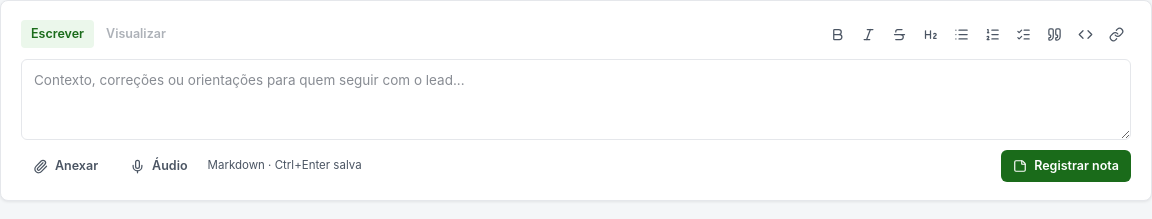
Test case: NoteComposer — toolbar e atalhos › checklist prefixa a linha
Type "ligar amanhã" into the text box named "Corpo da nota".
click(576, 100); type("ligar amanhã")  # box [21,59,1131,140]
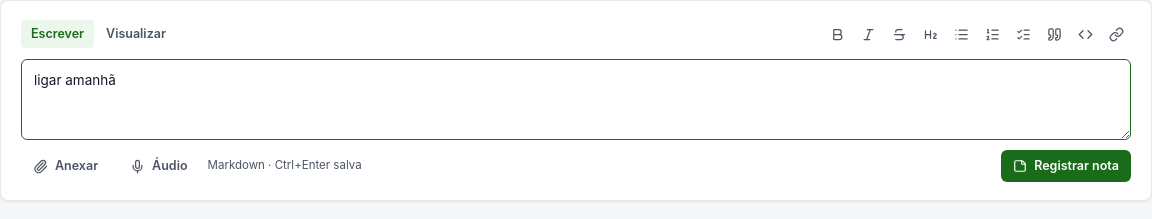
Click the button named "checklist".
click(1023, 34)  # box [1008,19,1038,49]
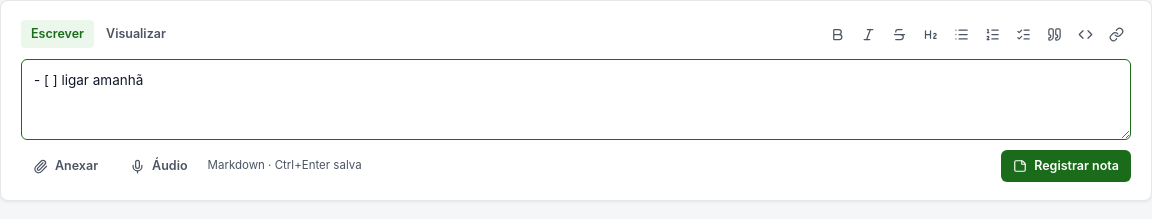
Now the text box named "Corpo da nota" holds "- [ ] ligar amanhã", box [21,59,1131,140]
